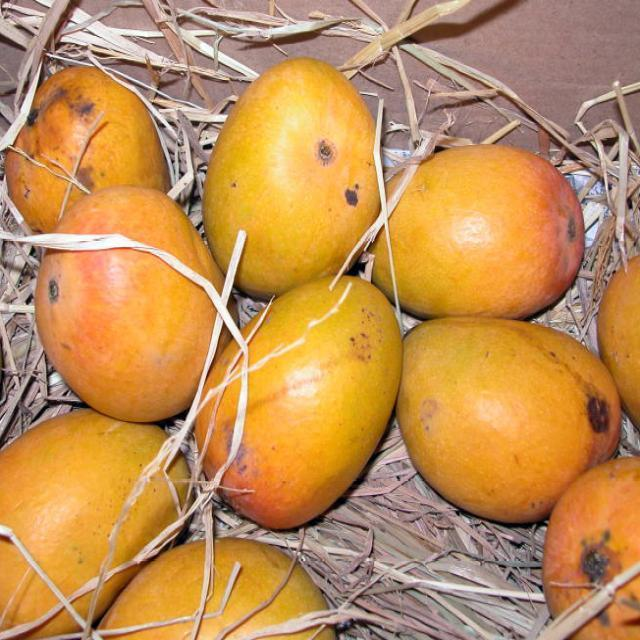Mango: (203, 275, 405, 526), (34, 184, 234, 416), (403, 312, 628, 516), (2, 411, 202, 633), (366, 141, 588, 316), (208, 60, 382, 282), (1, 65, 174, 246)
